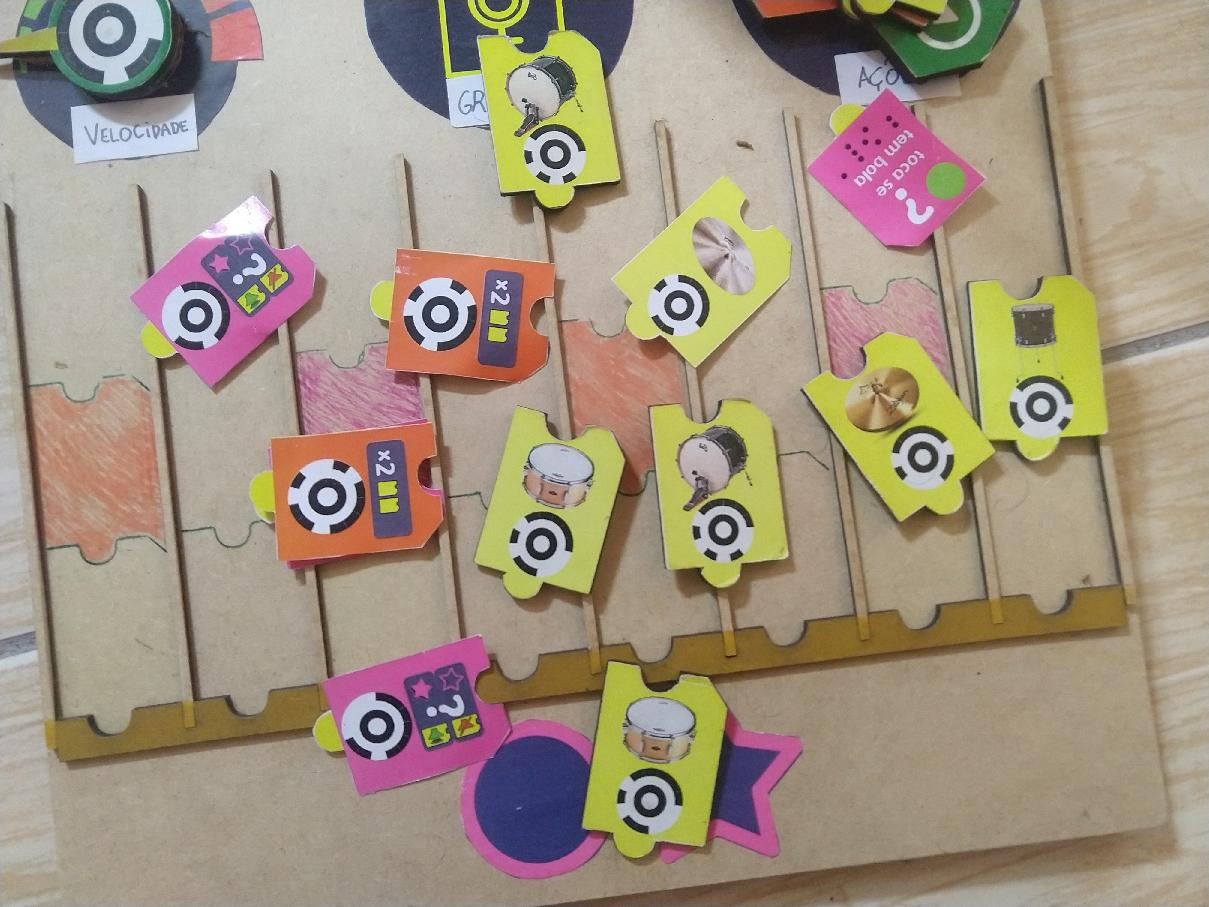bumbo: (474, 21, 626, 215), (647, 395, 791, 588)
